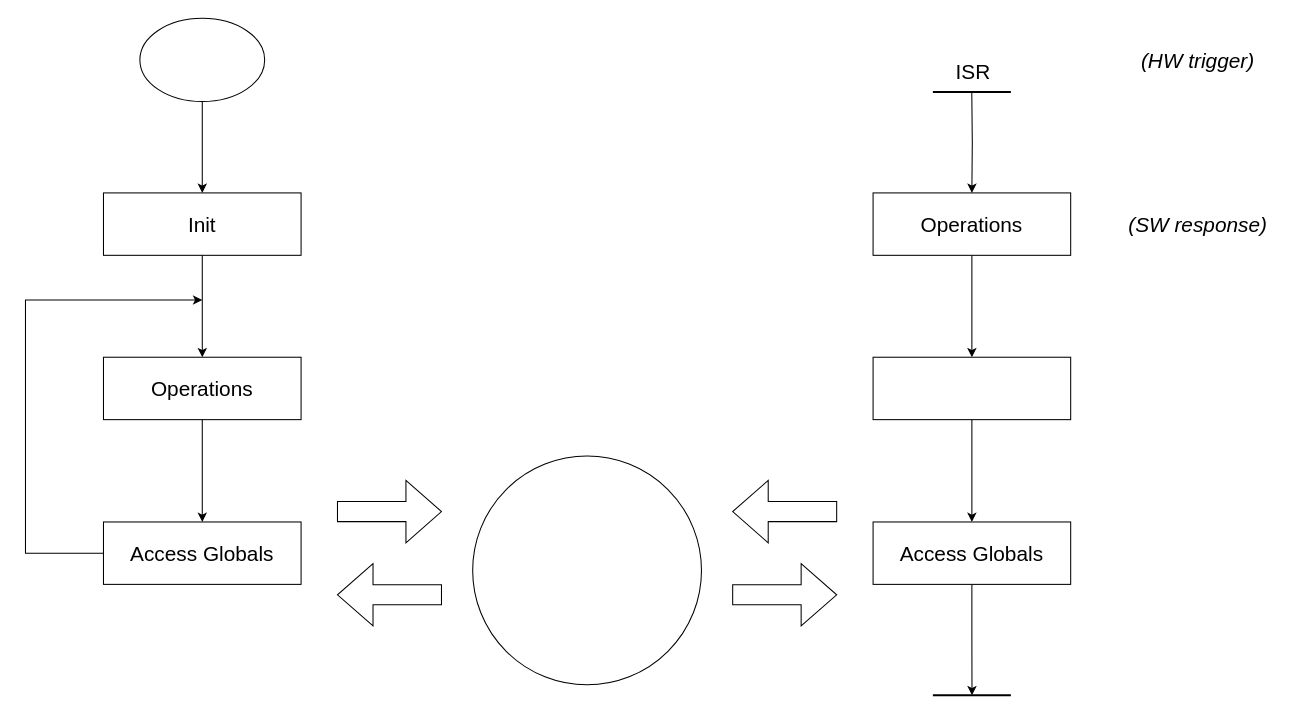
Image size: 1297x722. Some labels were removed from this diagram. The shapes that lost their labels are listed below. From the top down, each one's centre as x and y in pixels, then its label:
(202,59): main
(971,388): I/Os
(586,570): Globals
